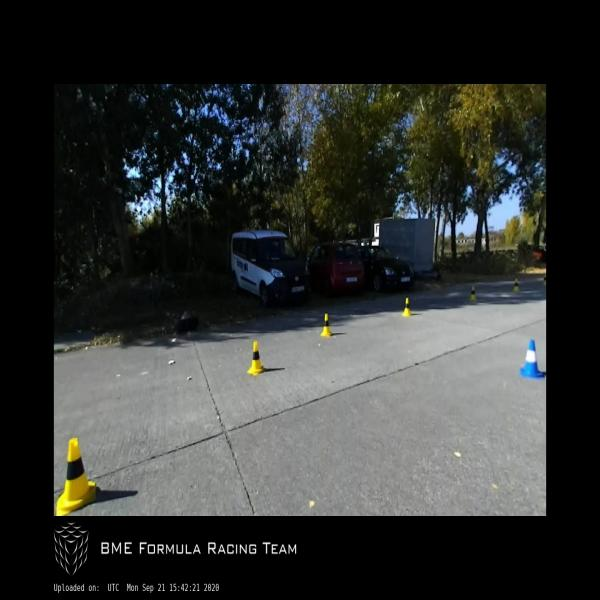blue_cone: (520, 340, 544, 378)
yellow_cone: (56, 438, 96, 516), (247, 342, 265, 376), (320, 313, 332, 337), (402, 298, 412, 317), (470, 286, 476, 301), (514, 278, 520, 292), (543, 275, 546, 286)
